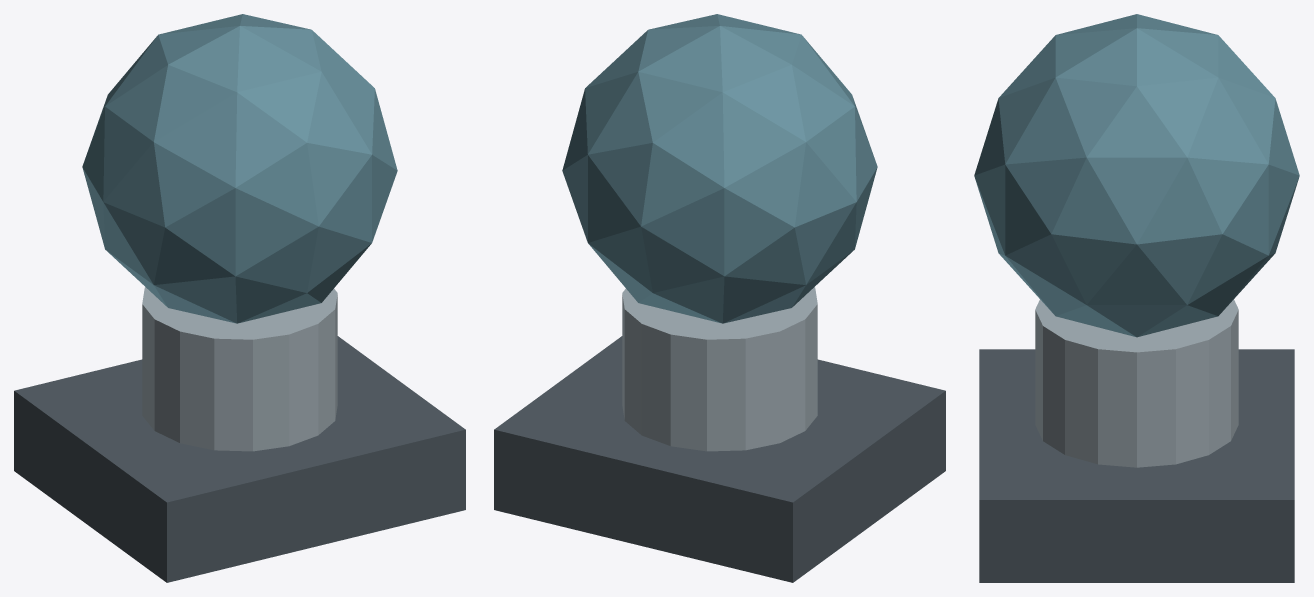
Rendered from lamp_load_lod2.glb.
3 views of the same model, side by side, from view 1: azimuth 30°, elevation 25°; view 2: azimuth 150°, elevation 25°; view 3: azimuth 270°, elevation 25° (orthographic). The views are drawn at different scales.
Visible parts, largest first — view 1: LAMP_BULB_MAT_GLASS, LAMP_BASE_MAT_POLYMER_BLACK, LAMP_SOCKET_MAT_METAL_BRUSHED; view 2: LAMP_BULB_MAT_GLASS, LAMP_BASE_MAT_POLYMER_BLACK, LAMP_SOCKET_MAT_METAL_BRUSHED; view 3: LAMP_BULB_MAT_GLASS, LAMP_BASE_MAT_POLYMER_BLACK, LAMP_SOCKET_MAT_METAL_BRUSHED.
Part boxes in pixels (bbox=[...]): LAMP_BULB_MAT_GLASS: bbox=[82, 14, 397, 323]; LAMP_BASE_MAT_POLYMER_BLACK: bbox=[14, 336, 465, 582]; LAMP_SOCKET_MAT_METAL_BRUSHED: bbox=[142, 287, 337, 451]; LAMP_BULB_MAT_GLASS: bbox=[562, 14, 877, 323]; LAMP_BASE_MAT_POLYMER_BLACK: bbox=[494, 336, 945, 582]; LAMP_SOCKET_MAT_METAL_BRUSHED: bbox=[622, 287, 817, 451]; LAMP_BULB_MAT_GLASS: bbox=[974, 14, 1299, 337]; LAMP_BASE_MAT_POLYMER_BLACK: bbox=[979, 349, 1294, 582]; LAMP_SOCKET_MAT_METAL_BRUSHED: bbox=[1035, 299, 1238, 467].
Bounding box in the file's own units: 0.7 × 1.06 × 0.64.
